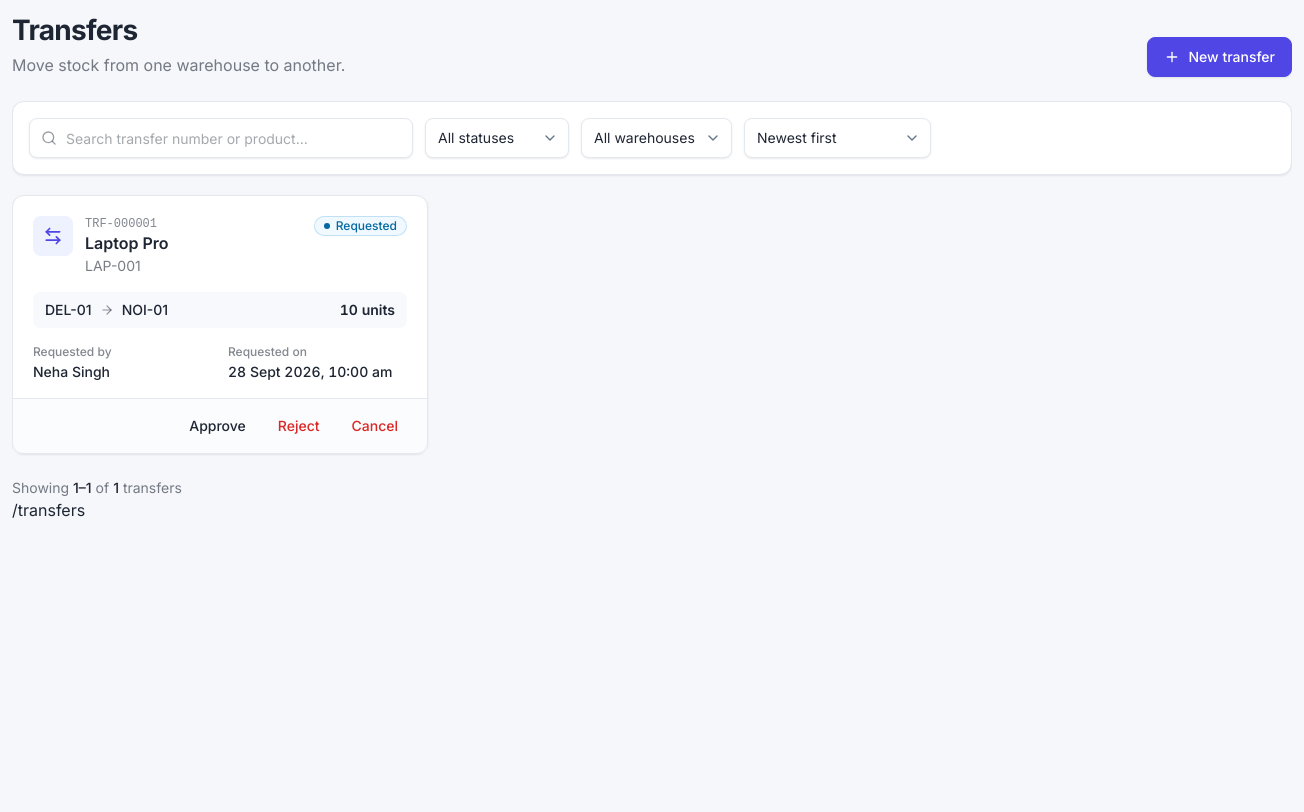
TransfersPage › shows the server's reason when approving is refused (e.g. not enough stock)
This screenshot has width=1304, height=812.
Click the button with aria-label "Approve TRF-000001" at (218, 426), box [176,409,259,443]
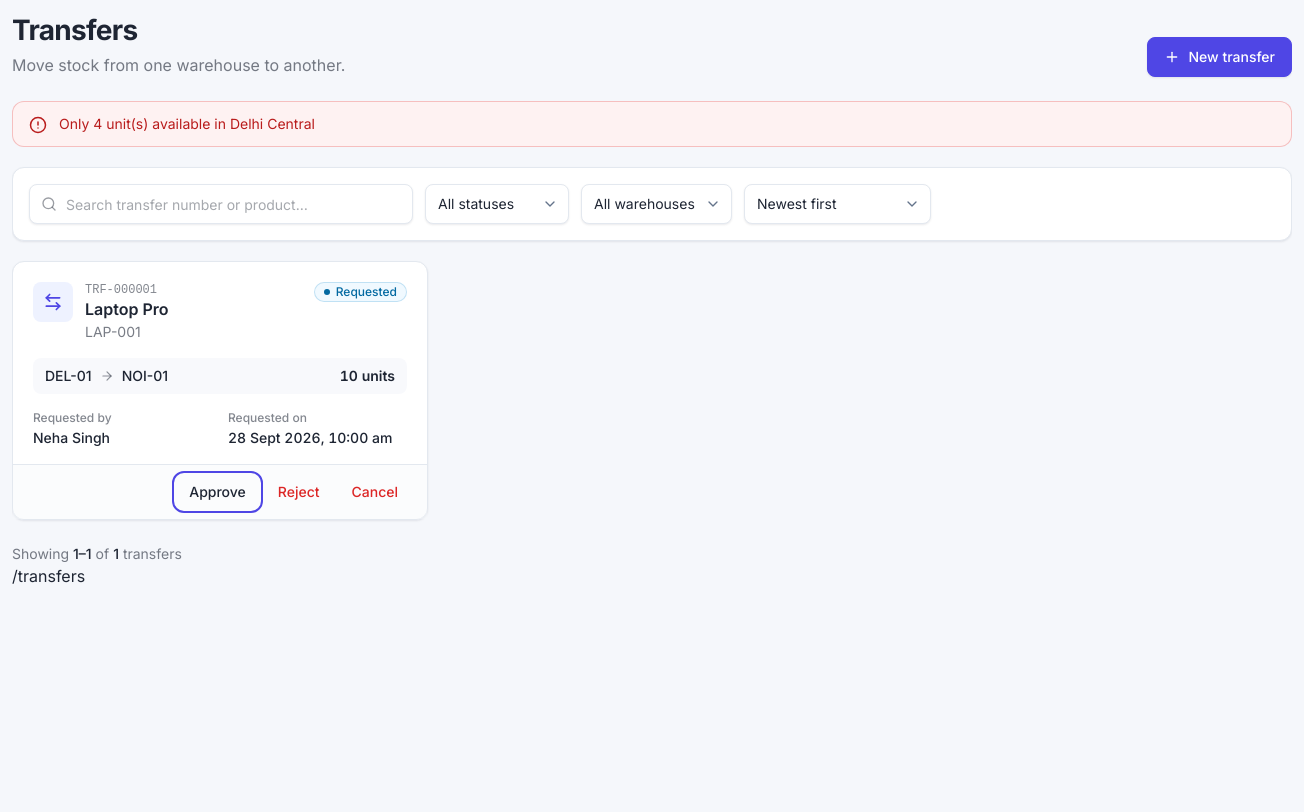
Now the text "Only 4 unit(s) available in Delhi Central" is shown, box [59,115,315,132]
